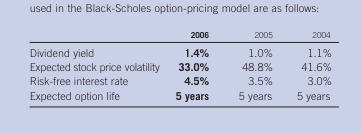table: (28, 28, 331, 101)
table column: (28, 28, 166, 101), (222, 28, 283, 101), (166, 28, 222, 101), (283, 28, 331, 101)
table column header: (28, 28, 331, 41)
table row: (28, 41, 331, 58), (28, 58, 331, 73), (28, 73, 331, 87), (28, 87, 331, 101), (28, 28, 331, 41)
